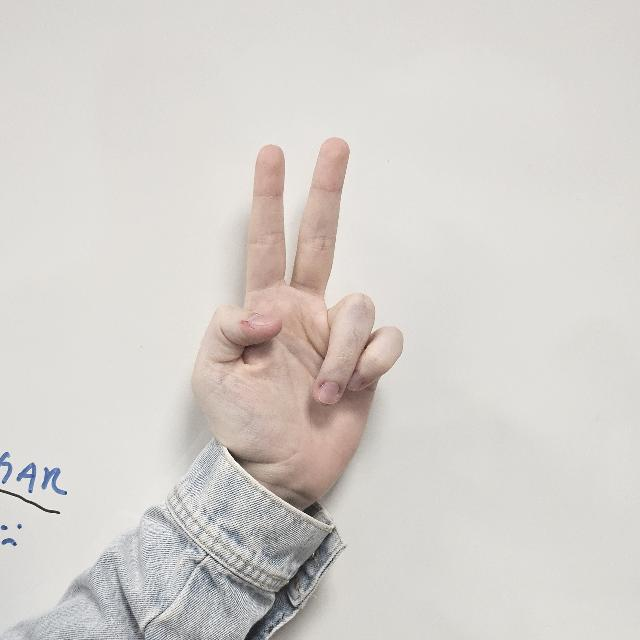Triangulo: (194, 137, 403, 511)
